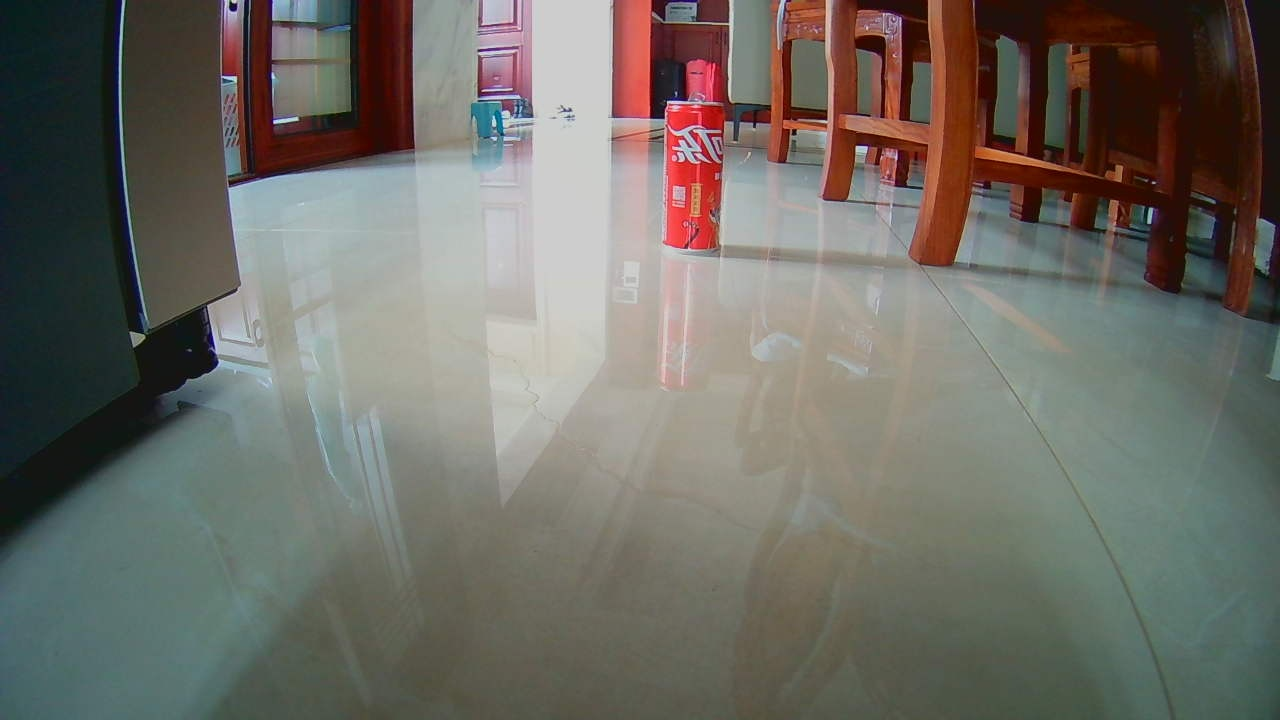cola: (658, 90, 724, 261)
